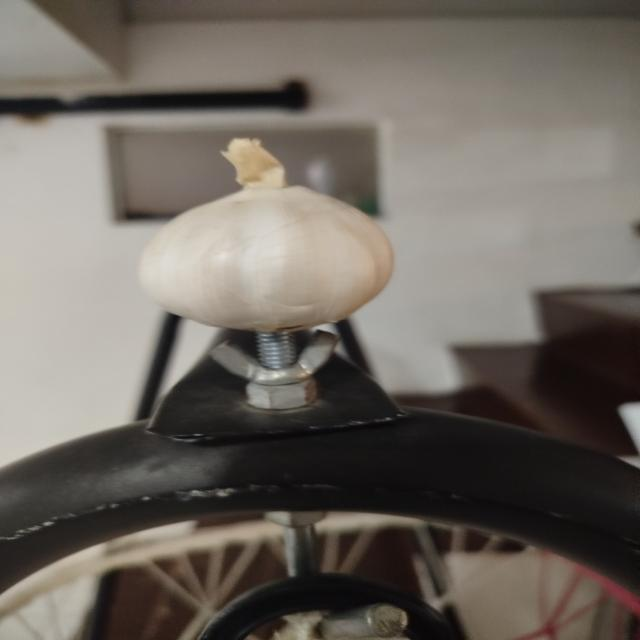garlic: (106, 122, 406, 342)
